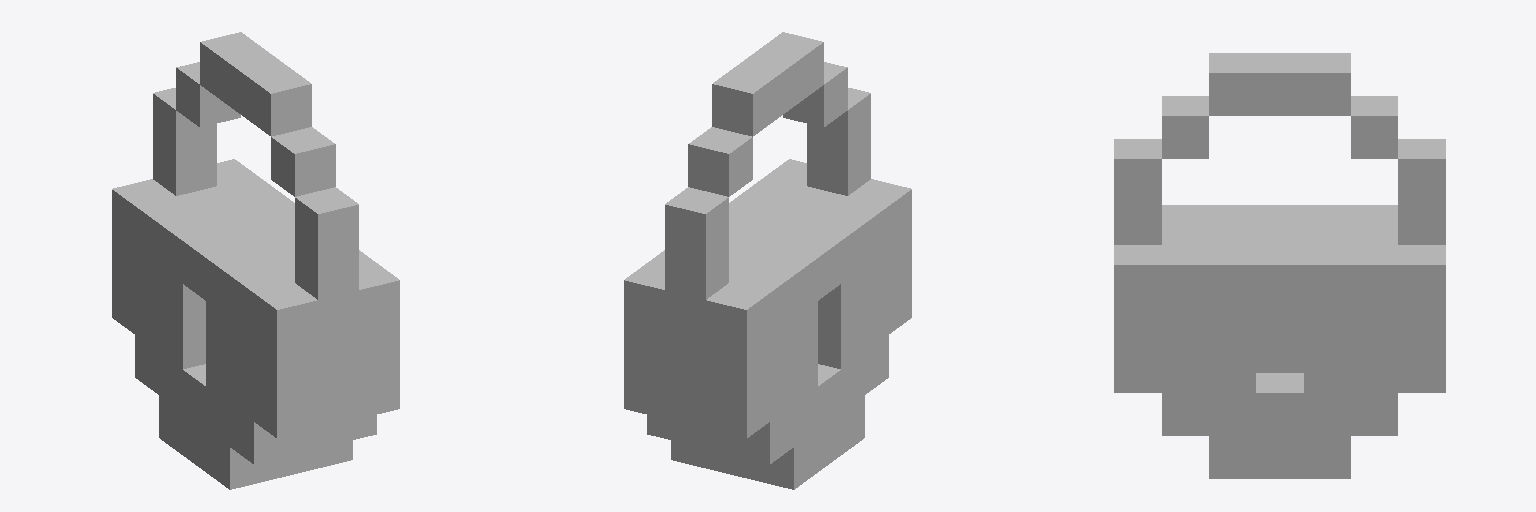
File: lock.obj
3 renders of one model, left to right at view 1: azimuth 30°, elevation 25°; view 2: azimuth 150°, elevation 25°; view 3: azimuth 270°, elevation 25°, orthographic.
Visible parts, largest first — view 1: object 1; view 2: object 1; view 3: object 1.
Part boxes in pixels (x1,y1,x2,y2): object 1: (112,32,399,489); object 1: (624,32,911,489); object 1: (1114,53,1445,478).
Size of the model in its own units: 0.3 by 0.9 by 0.7.